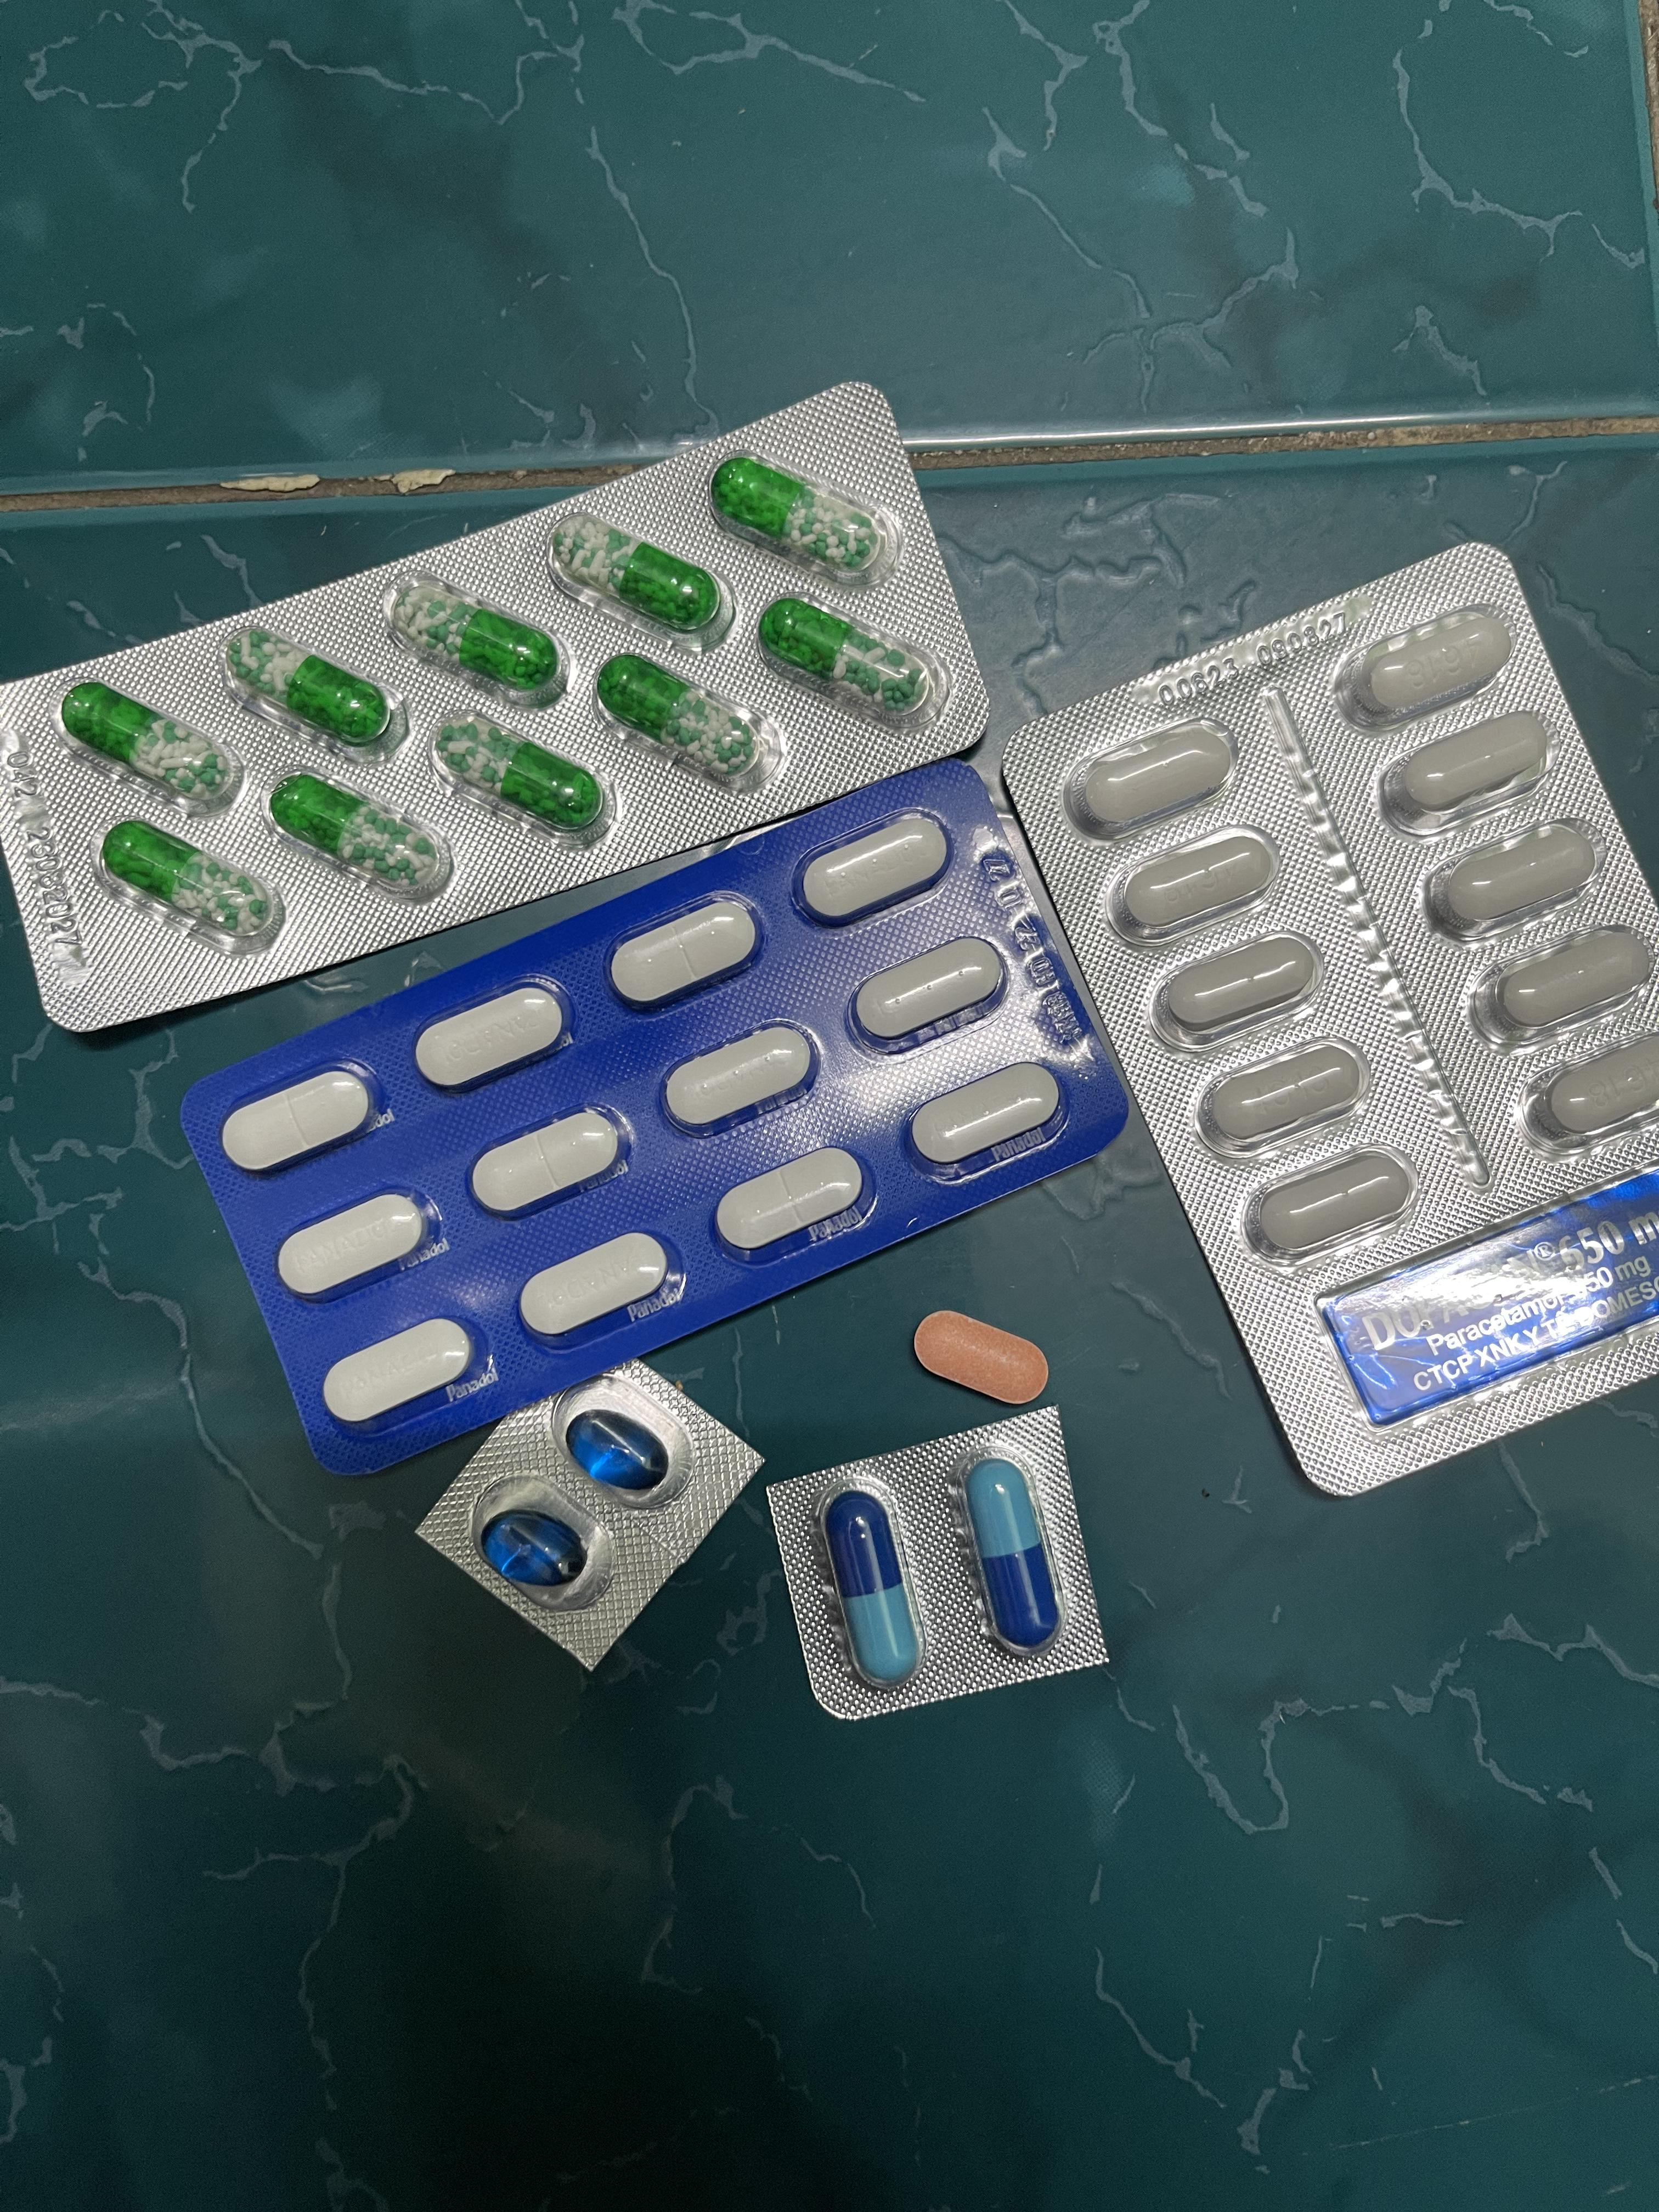Lincomyxin_500mg: (567, 1409, 670, 1487), (483, 1511, 585, 1587)
Loratadine_10mg: (911, 1309, 1049, 1407)
Paracetamol_350mg: (274, 1186, 440, 1302), (657, 1024, 821, 1138), (792, 808, 952, 921), (605, 896, 763, 1009), (321, 1319, 479, 1430), (516, 1233, 674, 1344), (849, 934, 1007, 1045), (222, 1066, 379, 1176), (414, 986, 574, 1093), (908, 1063, 1066, 1170), (470, 1111, 628, 1219), (712, 1149, 866, 1254)
Paracetamol_500mg: (1470, 923, 1658, 1053), (1335, 601, 1519, 733), (1423, 816, 1607, 945), (1378, 710, 1560, 839), (1151, 928, 1323, 1056), (1070, 713, 1235, 844), (1194, 1037, 1368, 1158), (1110, 820, 1275, 943), (1239, 1143, 1416, 1257), (1525, 1020, 1659, 1157)
Paracetamol_650mg: (269, 772, 447, 896), (596, 654, 762, 781), (65, 681, 235, 804), (433, 714, 603, 836), (105, 823, 275, 941), (718, 456, 884, 571), (764, 599, 926, 715), (228, 631, 394, 743), (392, 578, 558, 690), (556, 516, 718, 629)
pill: (817, 1477, 926, 1684), (966, 1462, 1059, 1650)
